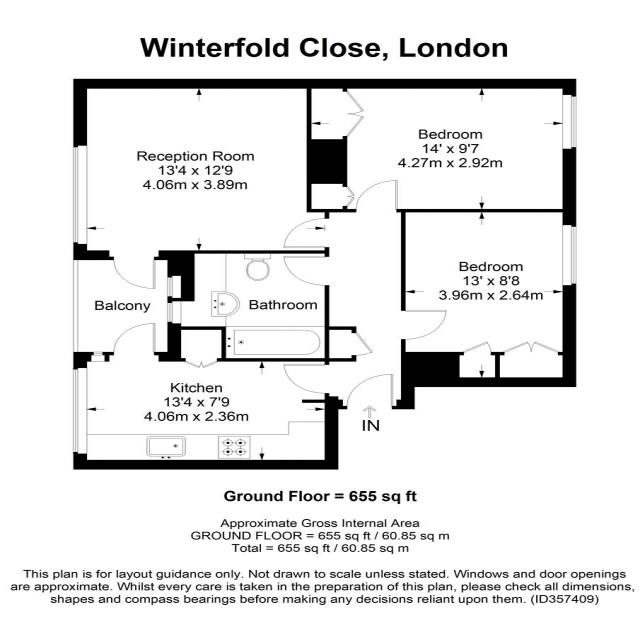DOOR: (346, 373, 394, 409), (111, 322, 158, 356), (111, 256, 157, 290), (282, 217, 330, 249), (282, 255, 329, 287), (355, 179, 400, 212), (401, 309, 448, 340), (282, 363, 329, 394)
ROOM: (73, 79, 330, 290), (73, 322, 339, 470), (306, 78, 577, 213), (401, 209, 577, 388)
WINDOW: (72, 145, 89, 245), (72, 367, 88, 454), (562, 224, 577, 286), (562, 94, 577, 149), (167, 275, 182, 299), (167, 301, 182, 324), (90, 351, 106, 362)
